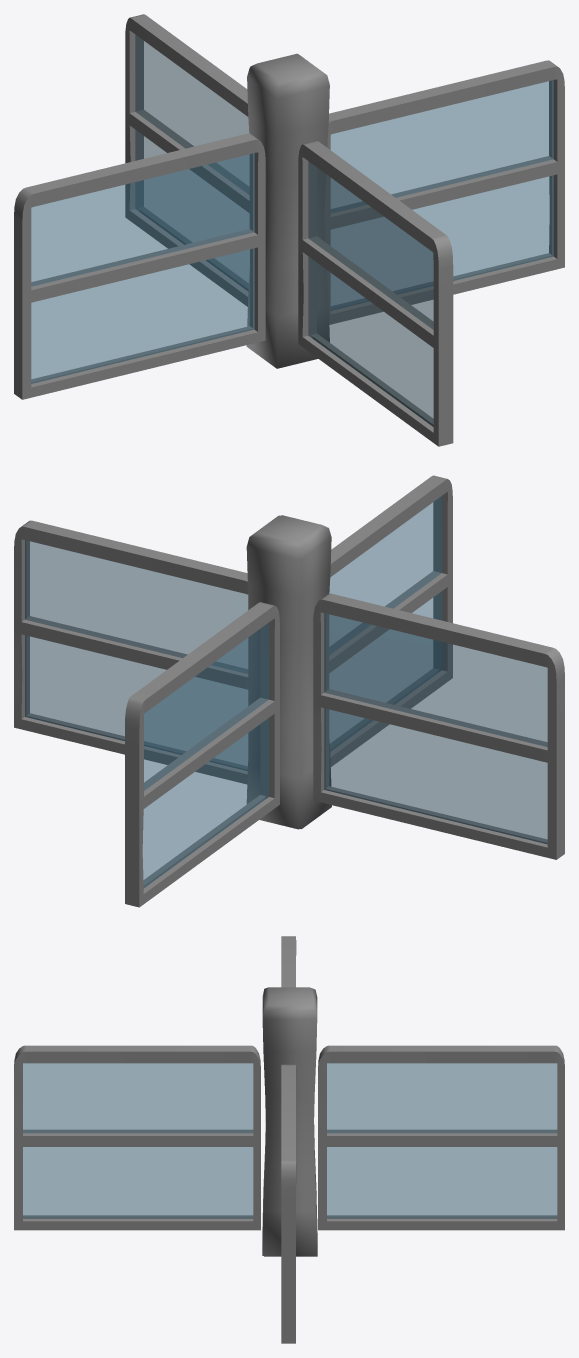
File: GlassHalfWall_Cross_SplitBorder.glb
3 renders of one model, top to bottom at view 1: azimuth 30°, elevation 25°; view 2: azimuth 150°, elevation 25°; view 3: azimuth 270°, elevation 25°, orthographic. The views are drawn at different scales.
Parts seen in each view (by area): view 1: 5-StraightGlassBorder.004, 5-StraightGlassBorder.008, 5-StraightGlassBorder.009, 5-StraightGlassBorder.007, 3-PostNARROWER.007, 3-PostNARROWER.008; view 2: 5-StraightGlassBorder.004, 5-StraightGlassBorder.008, 5-StraightGlassBorder.007, 5-StraightGlassBorder.009, 3-PostNARROWER.008, 3-PostNARROWER.007; view 3: 5-StraightGlassBorder.007, 5-StraightGlassBorder.009, 3-PostNARROWER.008, 5-StraightGlassBorder.008, 3-PostNARROWER.007, 5-StraightGlassBorder.004.
Boxes of the visible parts, box(x1,y1,x2,y2) form: 5-StraightGlassBorder.004: box(14, 133, 265, 399); 5-StraightGlassBorder.008: box(324, 60, 564, 324); 5-StraightGlassBorder.009: box(298, 141, 453, 446); 5-StraightGlassBorder.007: box(125, 14, 249, 306); 3-PostNARROWER.007: box(246, 55, 329, 368); 3-PostNARROWER.008: box(250, 53, 329, 342); 5-StraightGlassBorder.004: box(313, 593, 564, 859); 5-StraightGlassBorder.008: box(14, 520, 251, 784); 5-StraightGlassBorder.007: box(125, 602, 279, 907); 5-StraightGlassBorder.009: box(329, 475, 452, 766); 3-PostNARROWER.008: box(246, 515, 300, 829); 3-PostNARROWER.007: box(259, 515, 331, 829); 5-StraightGlassBorder.007: box(318, 1045, 564, 1230); 5-StraightGlassBorder.009: box(14, 1045, 260, 1230); 3-PostNARROWER.008: box(264, 988, 317, 1256); 5-StraightGlassBorder.008: box(281, 1064, 296, 1343); 3-PostNARROWER.007: box(262, 987, 310, 1255); 5-StraightGlassBorder.004: box(281, 936, 296, 987).
Size of the model in its own units: 1.99 by 0.9929 by 1.99.
3 materials, 3 textured.
